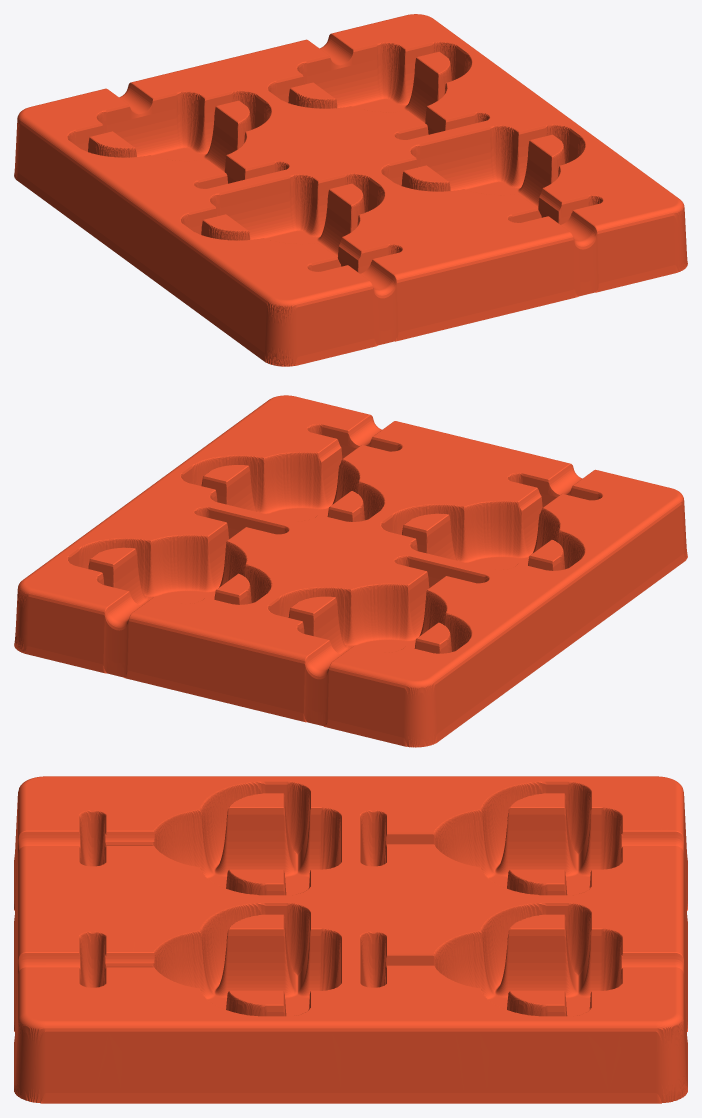
The model's file is mold.glb.
3 views of the same model, one above another, from view 1: azimuth 30°, elevation 25°; view 2: azimuth 150°, elevation 25°; view 3: azimuth 270°, elevation 25° (orthographic). The views are drawn at different scales.
Visible parts, largest first — view 1: geometry_0; view 2: geometry_0; view 3: geometry_0.
Part boxes in pixels (<box>): geometry_0: <box>14,14,687,366</box>; geometry_0: <box>14,395,687,747</box>; geometry_0: <box>14,776,687,1103</box>.
Size of the model in its own units: 0.1726 by 0.0245 by 0.1934.
